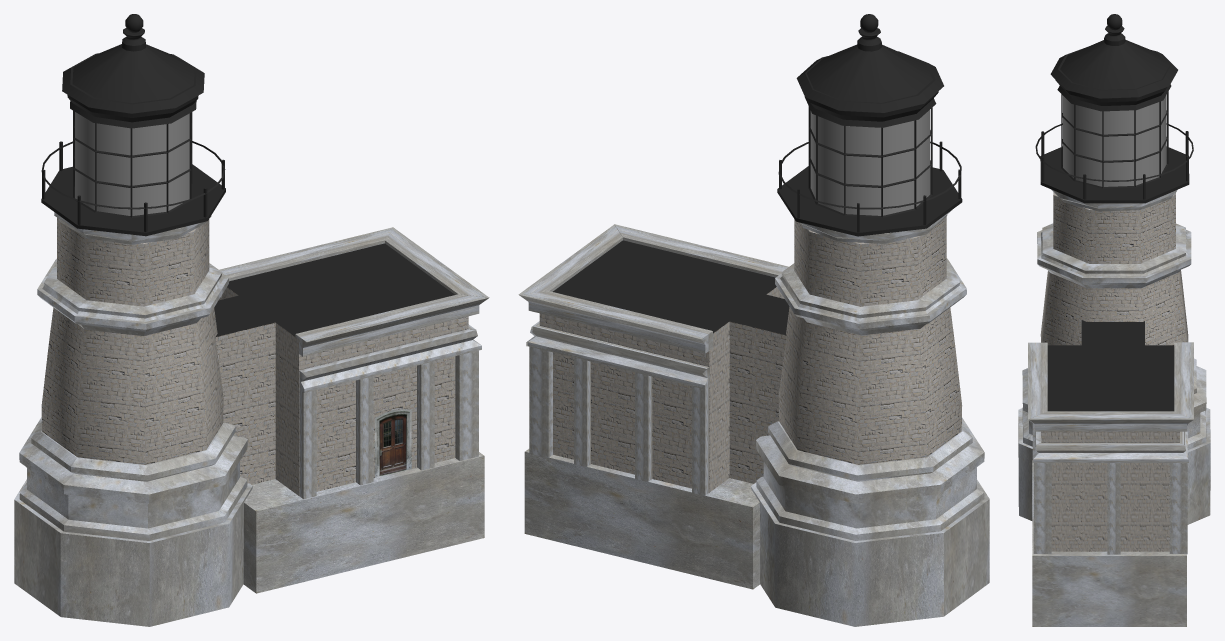
The model's file is SplitRock_01.DAE.
3 renders of one model, left to right at view 1: azimuth 30°, elevation 25°; view 2: azimuth 150°, elevation 25°; view 3: azimuth 270°, elevation 25°, orthographic. The views are drawn at different scales.
Parts seen in each view (by area): view 1: SplitRock200; view 2: SplitRock200; view 3: SplitRock200.
Part boxes in pixels (left/top/right/bottom): SplitRock200: left=14, top=14, right=489, bottom=626; SplitRock200: left=518, top=14, right=989, bottom=626; SplitRock200: left=1018, top=14, right=1210, bottom=626.
Size of what is drawn, in the model's own units: 18.31 by 8.78 by 24.43.
